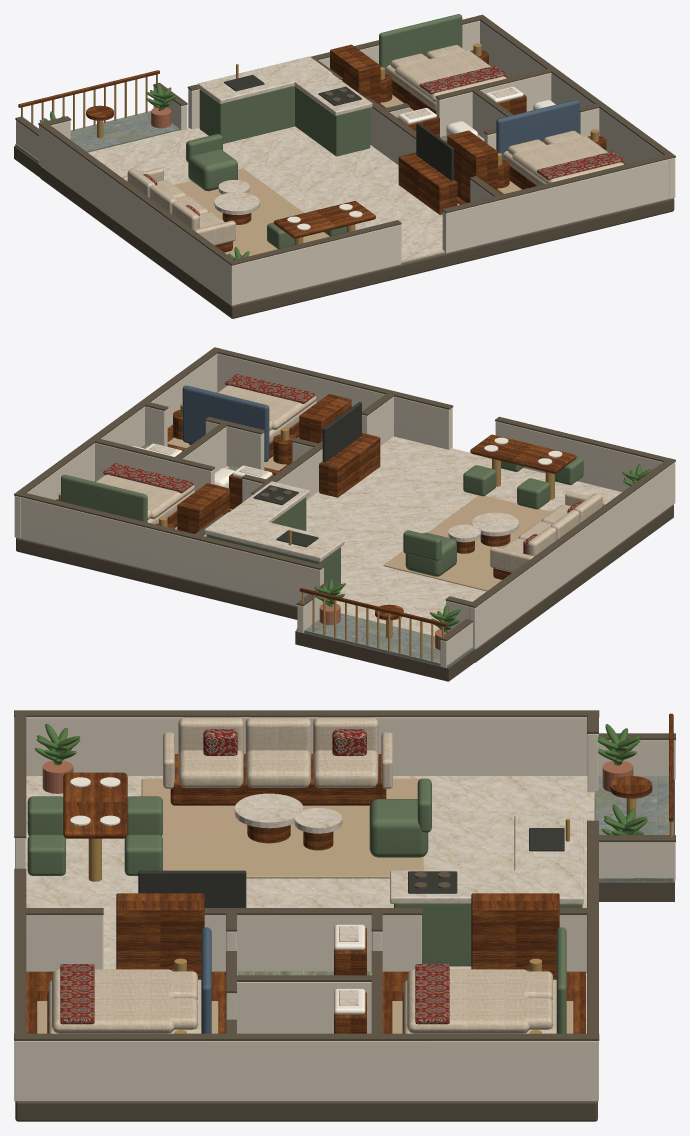
3 renders of one model, top to bottom at view 1: azimuth 30°, elevation 25°; view 2: azimuth 150°, elevation 25°; view 3: azimuth 270°, elevation 25°, orthographic. The views are drawn at different scales.
Visible parts, largest first — view 1: Warm plaster, Ivory marble, Section cap, Sage velvet, Smoked teak, Natural khadi, Wool rug, Indigo velvet, Balcony Kota, Ajrakh cotton, Charcoal, Brass (+2 smaller); view 2: Warm plaster, Ivory marble, Section cap, Smoked teak, Sage velvet, Natural khadi, Wool rug, Indigo velvet, Balcony Kota, Ajrakh cotton, Charcoal, Brass (+3 smaller); view 3: Warm plaster, Section cap, Ivory marble, Natural khadi, Smoked teak, Wool rug, Sage velvet, Ajrakh cotton, Charcoal, Balcony Kota, Foliage, Porcelain (+3 smaller).
Part boxes in pixels (x1=…): Warm plaster: x1=16, y1=20, x2=675, y2=305; Ivory marble: x1=88, y1=56, x2=517, y2=263; Section cap: x1=14, y1=14, x2=675, y2=318; Sage velvet: x1=186, y1=14, x2=462, y2=249; Smoked teak: x1=18, y1=44, x2=625, y2=252; Natural khadi: x1=122, y1=45, x2=623, y2=245; Wool rug: x1=174, y1=95, x2=521, y2=256; Indigo velvet: x1=496, y1=100, x2=579, y2=159; Balcony Kota: x1=15, y1=111, x2=179, y2=163; Ajrakh cotton: x1=143, y1=65, x2=623, y2=215; Charcoal: x1=224, y1=74, x2=453, y2=180; Brass: x1=21, y1=43, x2=598, y2=244; Warm plaster: x1=14, y1=353, x2=675, y2=668; Ivory marble: x1=149, y1=436, x2=621, y2=635; Section cap: x1=14, y1=347, x2=675, y2=681; Smoked teak: x1=55, y1=392, x2=576, y2=626; Sage velvet: x1=61, y1=457, x2=583, y2=587; Natural khadi: x1=96, y1=385, x2=608, y2=572; Wool rug: x1=167, y1=437, x2=551, y2=591; Indigo velvet: x1=182, y1=385, x2=269, y2=461; Balcony Kota: x1=296, y1=613, x2=473, y2=667; Ajrakh cotton: x1=103, y1=374, x2=581, y2=554; Charcoal: x1=253, y1=402, x2=361, y2=547; Brass: x1=58, y1=403, x2=554, y2=661; Warm plaster: x1=14, y1=717, x2=675, y2=1101; Section cap: x1=14, y1=710, x2=675, y2=1121; Ivory marble: x1=25, y1=776, x2=594, y2=1033; Natural khadi: x1=48, y1=717, x2=556, y2=1033; Smoked teak: x1=26, y1=713, x2=673, y2=1033; Wool rug: x1=36, y1=778, x2=573, y2=1033; Sage velvet: x1=27, y1=778, x2=582, y2=1033; Ajrakh cotton: x1=60, y1=729, x2=449, y2=1024; Charcoal: x1=138, y1=828, x2=564, y2=907; Balcony Kota: x1=595, y1=776, x2=673, y2=882; Foliage: x1=35, y1=724, x2=647, y2=835; Porcelain: x1=70, y1=777, x2=365, y2=1014.
Size of the model in its own units: 9.93 by 1.66 by 8.46.
Materials: 16 (6 with a texture image).
